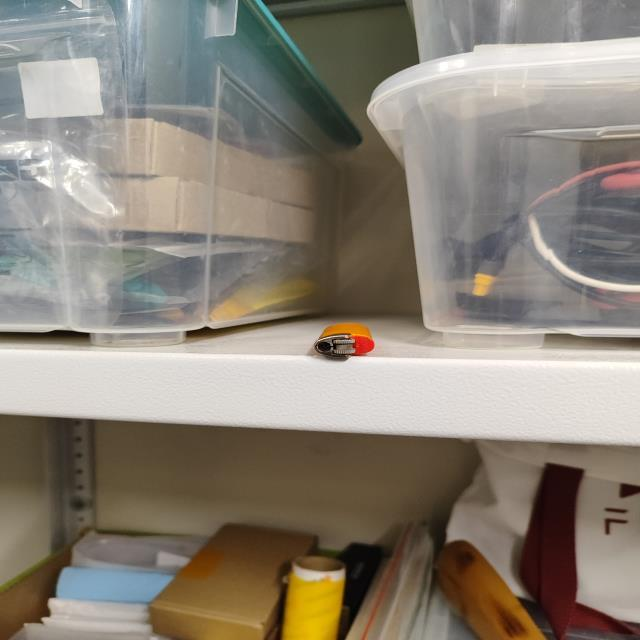lighter: (313, 323, 374, 359)
